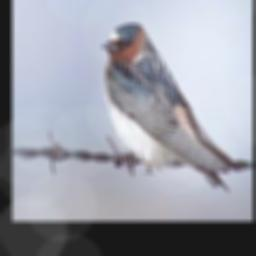Swallow: (104, 22, 241, 196)
